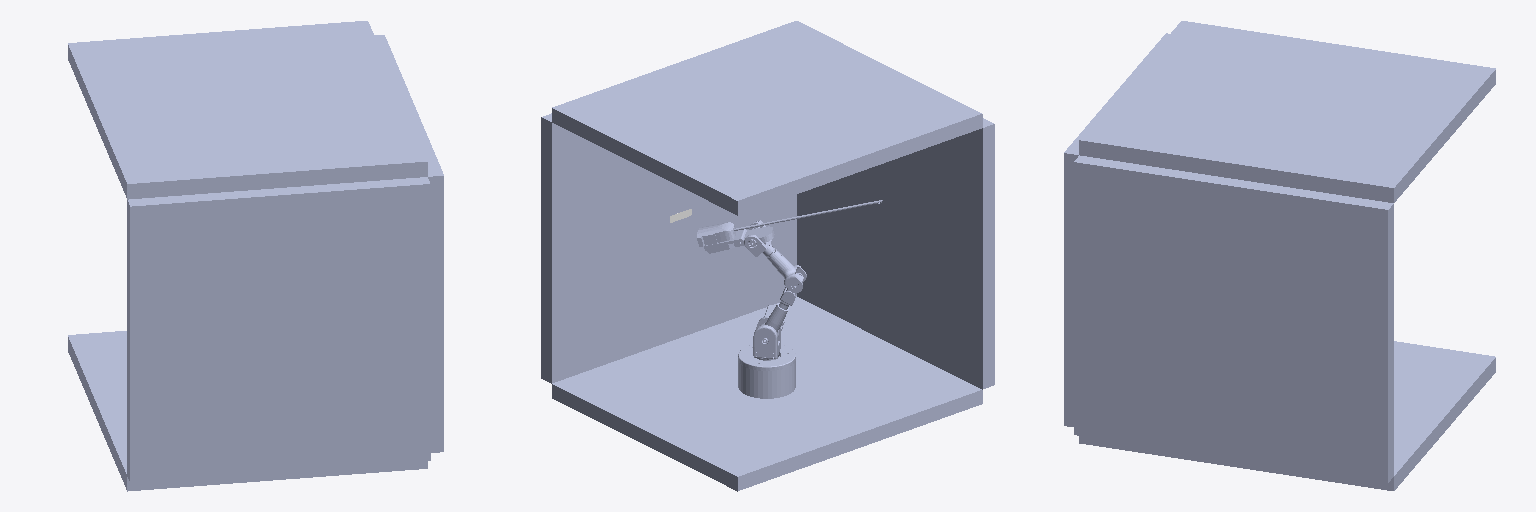
robot.urdf — final_assembly:
<?xml version="1.0" encoding="utf-8"?>
<!-- This URDF was automatically created by SolidWorks to URDF Exporter! Originally created by [author] ([email redacted]) 
     Commit Version: 1.6.0-4-g7f85cfe  Build Version: 1.6.7995.38578
     For more information, please see http://wiki.ros.org/sw_urdf_exporter -->
<robot
  name="final_assembly">
  <link
    name="base_link">
    <inertial>
      <origin
        xyz="0.072289 0.44891 0.15298"
        rpy="0 0 0" />
      <mass
        value="178.19" />
      <inertia
        ixx="16.776"
        ixy="1.5293E-05"
        ixz="0.77967"
        iyy="20.092"
        iyz="-2.2719E-06"
        izz="14.899" />
    </inertial>
    <visual>
      <origin
        xyz="0 0 0"
        rpy="0 0 0" />
      <geometry>
        <mesh
          filename="package://final_assembly/meshes/base_link.STL" />
      </geometry>
      <material
        name="">
        <color
          rgba="0.79216 0.81961 0.93333 1" />
      </material>
    </visual>
    <collision>
      <origin
        xyz="0 0 0"
        rpy="0 0 0" />
      <geometry>
        <mesh
          filename="package://final_assembly/meshes/base_link.STL" />
      </geometry>
    </collision>
  </link>
  <link
    name="rotating_base">
    <inertial>
      <origin
        xyz="0.024869 0.10251 -0.027374"
        rpy="0 0 0" />
      <mass
        value="0.77259" />
      <inertia
        ixx="0.0014127"
        ixy="-1.8434E-06"
        ixz="0.00019779"
        iyy="0.00088369"
        iyz="3.42E-06"
        izz="0.0013745" />
    </inertial>
    <visual>
      <origin
        xyz="0 0 0"
        rpy="0 0 0" />
      <geometry>
        <mesh
          filename="package://final_assembly/meshes/rotating_base.STL" />
      </geometry>
      <material
        name="">
        <color
          rgba="0.79216 0.81961 0.93333 1" />
      </material>
    </visual>
    <collision>
      <origin
        xyz="0 0 0"
        rpy="0 0 0" />
      <geometry>
        <mesh
          filename="package://final_assembly/meshes/rotating_base.STL" />
      </geometry>
    </collision>
  </link>
  <joint
    name="rotating_base"
    type="revolute">
    <origin
      xyz="0 0 0.045424"
      rpy="1.5708 0 -2.0317" />
    <parent
      link="base_link" />
    <child
      link="rotating_base" />
    <axis
      xyz="0 -1 0" />
    <limit
      lower="-2.3562"
      upper="2.3562"
      effort="4.5"
      velocity="3.5" />
  </joint>
  <link
    name="shoulder">
    <inertial>
      <origin
        xyz="0.063103 0.045836 0.037369"
        rpy="0 0 0" />
      <mass
        value="0.46371" />
      <inertia
        ixx="0.00035088"
        ixy="-0.00013303"
        ixz="-9.8295E-05"
        iyy="0.00044325"
        iyz="-7.9348E-05"
        izz="0.00045698" />
    </inertial>
    <visual>
      <origin
        xyz="0 0 0"
        rpy="0 0 0" />
      <geometry>
        <mesh
          filename="package://final_assembly/meshes/shoulder.STL" />
      </geometry>
      <material
        name="">
        <color
          rgba="0.79216 0.81961 0.93333 1" />
      </material>
    </visual>
    <collision>
      <origin
        xyz="0 0 0"
        rpy="0 0 0" />
      <geometry>
        <mesh
          filename="package://final_assembly/meshes/shoulder.STL" />
      </geometry>
    </collision>
  </link>
  <joint
    name="shoulder"
    type="revolute">
    <origin
      xyz="0 0.12958 0"
      rpy="2.3589 -0.32422 2.0182" />
    <parent
      link="rotating_base" />
    <child
      link="shoulder" />
    <axis
      xyz="0.51152 0 -0.85927" />
    <limit
      lower="-2.3562"
      upper="2.3562"
      effort="35"
      velocity="3.5" />
  </joint>
  <link
    name="elbow">
    <inertial>
      <origin
        xyz="0.0017381 0.10938 0.0074051"
        rpy="0 0 0" />
      <mass
        value="0.36962" />
      <inertia
        ixx="0.00051366"
        ixy="-3.0964E-06"
        ixz="-4.8085E-05"
        iyy="0.00032161"
        iyz="-1.324E-05"
        izz="0.00031982" />
    </inertial>
    <visual>
      <origin
        xyz="0 0 0"
        rpy="0 0 0" />
      <geometry>
        <mesh
          filename="package://final_assembly/meshes/elbow.STL" />
      </geometry>
      <material
        name="">
        <color
          rgba="0.79216 0.81961 0.93333 1" />
      </material>
    </visual>
    <collision>
      <origin
        xyz="0 0 0"
        rpy="0 0 0" />
      <geometry>
        <mesh
          filename="package://final_assembly/meshes/elbow.STL" />
      </geometry>
    </collision>
  </link>
  <joint
    name="elbow"
    type="revolute">
    <origin
      xyz="0.15881 0.11561 0.094538"
      rpy="0.42408 0.10284 -2.2417" />
    <parent
      link="shoulder" />
    <child
      link="elbow" />
    <axis
      xyz="0.22813 0 0.97363" />
    <limit
      lower="-2.3562"
      upper="2.3562"
      effort="15"
      velocity="3.5" />
  </joint>
  <link
    name="wrist">
    <inertial>
      <origin
        xyz="-0.010066874919804 0.0660734516836123 -0.000208932410058274"
        rpy="0 0 0" />
      <mass
        value="0.549039968722864" />
      <inertia
        ixx="0.0034469650675977"
        ixy="-0.000525732533765176"
        ixz="-2.93891615862394E-05"
        iyy="0.000407260203910346"
        iyz="0.000123190232387327"
        izz="0.00332842828812665" />
    </inertial>
    <visual>
      <origin
        xyz="0 0 0"
        rpy="0 0 0" />
      <geometry>
        <mesh
          filename="package://final_assembly/meshes/wrist.STL" />
      </geometry>
      <material
        name="">
        <color
          rgba="0.792156862745098 0.819607843137255 0.933333333333333 1" />
      </material>
    </visual>
    <collision>
      <origin
        xyz="0 0 0"
        rpy="0 0 0" />
      <geometry>
        <mesh
          filename="package://final_assembly/meshes/wrist.STL" />
      </geometry>
    </collision>
  </link>
  <joint
    name="wrist"
    type="revolute">
    <origin
      xyz="3.1123E-05 0.19594 0"
      rpy="-0.18323 -0.087677 -0.89091" />
    <parent
      link="elbow" />
    <child
      link="wrist" />
    <axis
      xyz="0.22813 0 0.97363" />
    <limit
      lower="-2.3562"
      upper="2.3562"
      effort="4.5"
      velocity="3.5" />
  </joint>
  <link
    name="roll">
    <inertial>
      <origin
        xyz="5.18505294255789E-10 0.00123809515255657 6.9728272633629E-07"
        rpy="0 0 0" />
      <mass
        value="0.000352834501272486" />
      <inertia
        ixx="3.52133555342966E-09"
        ixy="-1.40592850238264E-15"
        ixz="1.03054363229842E-14"
        iyy="2.80572273971748E-09"
        iyz="-9.86655039287721E-13"
        izz="3.97771151100351E-09" />
    </inertial>
    <visual>
      <origin
        xyz="0 0 0"
        rpy="0 0 0" />
      <geometry>
        <mesh
          filename="package://final_assembly/meshes/roll.STL" />
      </geometry>
      <material
        name="">
        <color
          rgba="0.792156862745098 0.819607843137255 0.933333333333333 1" />
      </material>
    </visual>
    <collision>
      <origin
        xyz="0 0 0"
        rpy="0 0 0" />
      <geometry>
        <mesh
          filename="package://final_assembly/meshes/roll.STL" />
      </geometry>
    </collision>
  </link>
  <joint
    name="roll"
    type="revolute">
    <origin
      xyz="-0.10786 -0.40669 0.022706"
      rpy="2.8203 -1.4417 0.1443" />
    <parent
      link="wrist" />
    <child
      link="roll" />
    <axis
      xyz="0 1 0" />
    <limit
      lower="-1.5708"
      upper="1.5708"
      effort="1.2748"
      velocity="3.5" />
  </joint>
  <link
    name="pitch">
    <inertial>
      <origin
        xyz="-2.46105501255922E-09 0.0087185364787965 -0.000900962051008536"
        rpy="0 0 0" />
      <mass
        value="0.000312033346328647" />
      <inertia
        ixx="4.28824784148058E-09"
        ixy="-2.81317956209701E-14"
        ixz="2.55412803280749E-14"
        iyy="2.38530688150666E-09"
        iyz="-2.61423178722263E-12"
        izz="3.48783068607668E-09" />
    </inertial>
    <visual>
      <origin
        xyz="0 0 0"
        rpy="0 0 0" />
      <geometry>
        <mesh
          filename="package://final_assembly/meshes/pitch.STL" />
      </geometry>
      <material
        name="">
        <color
          rgba="0.792156862745098 0.819607843137255 0.933333333333333 1" />
      </material>
    </visual>
    <collision>
      <origin
        xyz="0 0 0"
        rpy="0 0 0" />
      <geometry>
        <mesh
          filename="package://final_assembly/meshes/pitch.STL" />
      </geometry>
    </collision>
  </link>
  <joint
    name="pitch"
    type="revolute">
    <origin
      xyz="0 0.01 0"
      rpy="0.19092 0 -3.1416" />
    <parent
      link="roll" />
    <child
      link="pitch" />
    <axis
      xyz="-1 0 0" />
    <limit
      lower="-1.5708"
      upper="1.5708"
      effort="1.2748"
      velocity="3.5" />
  </joint>
  <link
    name="yaw1">
    <inertial>
      <origin
        xyz="0.0046176 0.0033779 -0.00030197"
        rpy="0 0 0" />
      <mass
        value="9.0457E-05" />
      <inertia
        ixx="1.7646E-10"
        ixy="-1.0054E-10"
        ixz="-1.2365E-10"
        iyy="1.2916E-09"
        iyz="-1.4212E-11"
        izz="1.2433E-09" />
    </inertial>
    <visual>
      <origin
        xyz="0 0 0"
        rpy="0 0 0" />
      <geometry>
        <mesh
          filename="package://final_assembly/meshes/yaw1.STL" />
      </geometry>
      <material
        name="">
        <color
          rgba="0.79216 0.81961 0.93333 1" />
      </material>
    </visual>
    <collision>
      <origin
        xyz="0 0 0"
        rpy="0 0 0" />
      <geometry>
        <mesh
          filename="package://final_assembly/meshes/yaw1.STL" />
      </geometry>
    </collision>
  </link>
  <joint
    name="yaw1"
    type="revolute">
    <origin
      xyz="0 0.014672 -0.00089717"
      rpy="0 0 2.9999" />
    <parent
      link="pitch" />
    <child
      link="yaw1" />
    <axis
      xyz="0 0 1" />
    <limit
      lower="-1.5708"
      upper="1.5708"
      effort="1.2748"
      velocity="3.5" />
  </joint>
  <link
    name="yaw2">
    <inertial>
      <origin
        xyz="0.0088209 -0.0084729 0.0005952"
        rpy="0 0 0" />
      <mass
        value="9.0457E-05" />
      <inertia
        ixx="1.7646E-10"
        ixy="-1.0054E-10"
        ixz="-1.2365E-10"
        iyy="1.2916E-09"
        iyz="-1.4212E-11"
        izz="1.2433E-09" />
    </inertial>
    <visual>
      <origin
        xyz="0 0 0"
        rpy="0 0 0" />
      <geometry>
        <mesh
          filename="package://final_assembly/meshes/yaw2.STL" />
      </geometry>
      <material
        name="">
        <color
          rgba="0.79216 0.81961 0.93333 1" />
      </material>
    </visual>
    <collision>
      <origin
        xyz="0 0 0"
        rpy="0 0 0" />
      <geometry>
        <mesh
          filename="package://final_assembly/meshes/yaw2.STL" />
      </geometry>
    </collision>
  </link>
  <joint
    name="yaw2"
    type="revolute">
    <origin
      xyz="-0.0014122 0.0021325 0"
      rpy="-3.1416 0 0.2514" />
    <parent
      link="pitch" />
    <child
      link="yaw2" />
    <axis
      xyz="0 0 1" />
    <limit
      lower="-1.5708"
      upper="1.5708"
      effort="1.2748"
      velocity="3.5" />
  </joint>
  <link
    name="wound">
    <inertial>
      <origin
        xyz="-2.4157284740844E-05 -0.00828924428490896 1.51144531989233E-05"
        rpy="0 0 0" />
      <mass
        value="0.349262041359426" />
      <inertia
        ixx="0.000720089733290022"
        ixy="2.35334748681716E-08"
        ixz="-5.93902848473676E-07"
        iyy="0.00139606550256426"
        iyz="-1.47241549835883E-08"
        izz="0.000719512090427776" />
    </inertial>
    <visual>
      <origin
        xyz="0 0 0"
        rpy="0 0 0" />
      <geometry>
        <mesh
          filename="package://final_assembly/meshes/wound.STL" />
      </geometry>
      <material
        name="">
        <color
          rgba="0.792156862745098 0.819607843137255 0.933333333333333 1" />
      </material>
    </visual>
    <collision>
      <origin
        xyz="0 0 0"
        rpy="0 0 0" />
      <geometry>
        <mesh
          filename="package://final_assembly/meshes/wound.STL" />
      </geometry>
    </collision>
  </link>
  <joint
    name="wound"
    type="revolute">
    <origin
      xyz="0 0 0.813"
      rpy="-1.5708 0 -2.9267" />
    <parent
      link="base_link" />
    <child
      link="wound" />
    <axis
      xyz="0 1 0" />
    <limit
      lower="-1.5708"
      upper="1.5708"
      effort="1.2748"
      velocity="3.5" />
  </joint>
  <link
    name="camera1">
    <inertial>
      <origin
        xyz="-0.000101582996962446 0.0124168805893981 0.000281263349237559"
        rpy="0 0 0" />
      <mass
        value="0.00129616879829712" />
      <inertia
        ixx="1.6113210278516E-07"
        ixy="2.12534786841345E-12"
        ixz="-2.6322838069808E-07"
        iyy="8.23974326880385E-07"
        iyz="-5.8846704473941E-12"
        izz="7.94890378829757E-07" />
    </inertial>
    <visual>
      <origin
        xyz="0 0 0"
        rpy="0 0 0" />
      <geometry>
        <mesh
          filename="package://final_assembly/meshes/camera1.STL" />
      </geometry>
      <material
        name="">
        <color
          rgba="0.792156862745098 0.819607843137255 0.933333333333333 1" />
      </material>
    </visual>
    <collision>
      <origin
        xyz="0 0 0"
        rpy="0 0 0" />
      <geometry>
        <mesh
          filename="package://final_assembly/meshes/camera1.STL" />
      </geometry>
    </collision>
  </link>
  <joint
    name="camera1"
    type="fixed">
    <origin
      xyz="-0.20496 -0.42335 0.42635"
      rpy="1.5708 0 0" />
    <parent
      link="base_link" />
    <child
      link="camera1" />
    <axis
      xyz="0 0 0" />
  </joint>
  <link
    name="camera2">
    <inertial>
      <origin
        xyz="0 0 0"
        rpy="0 0 0" />
      <mass
        value="0" />
      <inertia
        ixx="0"
        ixy="0"
        ixz="0"
        iyy="0"
        iyz="0"
        izz="0" />
    </inertial>
    <visual>
      <origin
        xyz="0 0 0"
        rpy="0 0 0" />
      <geometry>
        <mesh
          filename="package://final_assembly/meshes/camera2.STL" />
      </geometry>
      <material
        name="">
        <color
          rgba="1 1 1 1" />
      </material>
    </visual>
    <collision>
      <origin
        xyz="0 0 0"
        rpy="0 0 0" />
      <geometry>
        <mesh
          filename="package://final_assembly/meshes/camera2.STL" />
      </geometry>
    </collision>
  </link>
  <joint
    name="camera2"
    type="fixed">
    <origin
      xyz="0.39317 -0.1431 0.42631"
      rpy="1.5708 0 0" />
    <parent
      link="base_link" />
    <child
      link="camera2" />
    <axis
      xyz="0 0 0" />
  </joint>
</robot>

--- Render facts (derived) ---
The picture shows the robot from 3 angles, left to right: view 1: azimuth 30°, elevation 25°; view 2: azimuth 150°, elevation 25°; view 3: azimuth 270°, elevation 25°; orthographic projection.
Model final_assembly with 12 links and 11 joints (9 revolute, 2 fixed), rooted at base_link, posed all joints at 0.
Links seen in each view (by area): view 1: base_link; view 2: base_link, wrist, elbow, rotating_base, shoulder; view 3: base_link.
Link boxes in pixels (x1,y1,x2,y2): base_link: (68,21,443,491); base_link: (541,21,994,491); wrist: (697,201,878,253); elbow: (744,220,806,292); rotating_base: (753,305,784,360); shoulder: (760,273,803,342); base_link: (1064,21,1495,490).
Bounding box of the posed robot: 1.25 × 1.29 × 1 m (x, y, z).
12 mesh visuals loaded from 12 distinct referenced files (12 binary STL).